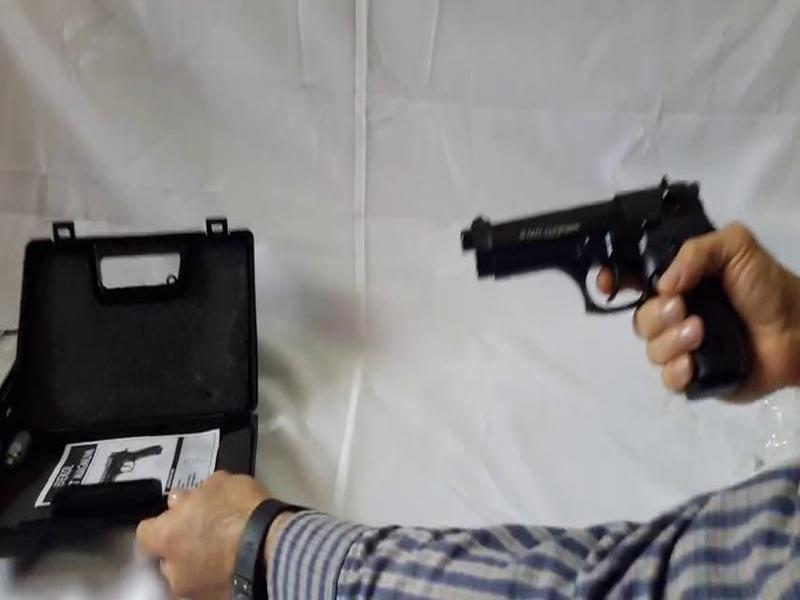Pistola: (434, 168, 777, 402)
